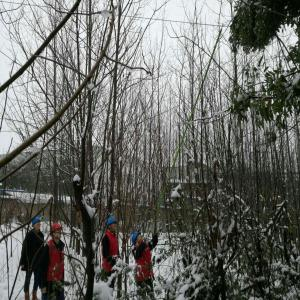blue: (107, 217, 117, 233), (133, 232, 144, 246), (32, 217, 42, 232)
red: (50, 223, 63, 243)
